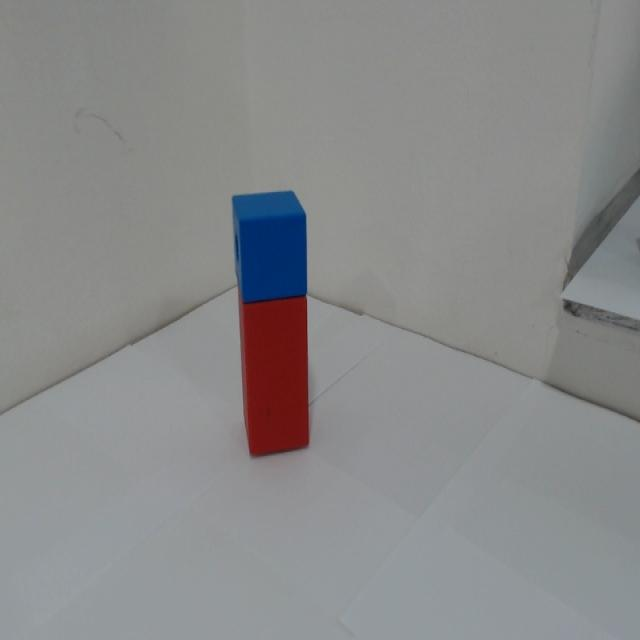cube: (216, 197, 330, 301)
